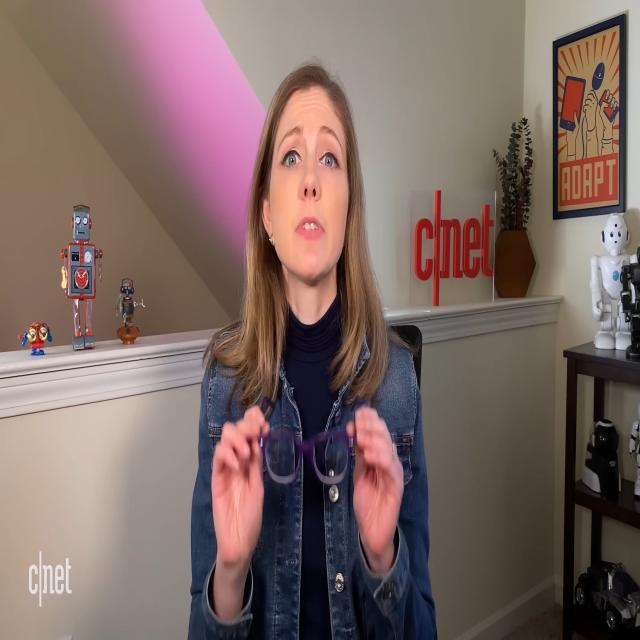dress: (188, 303, 448, 640)
glasses: (262, 420, 357, 492)
